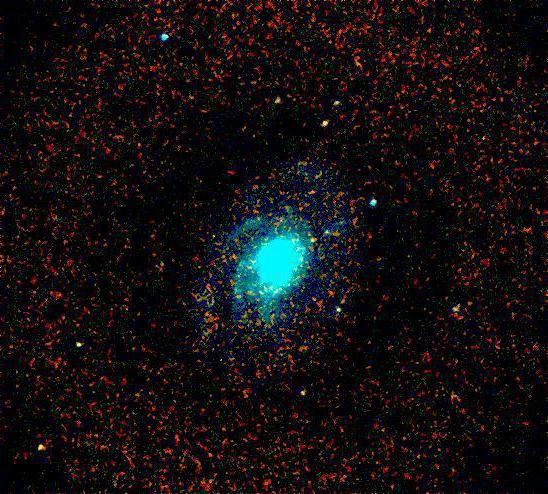star: (297, 226, 327, 256)
